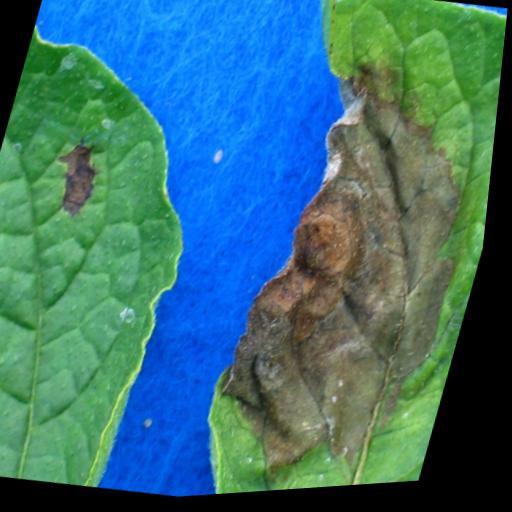Early Blight: (184, 0, 511, 500), (0, 3, 246, 500)
